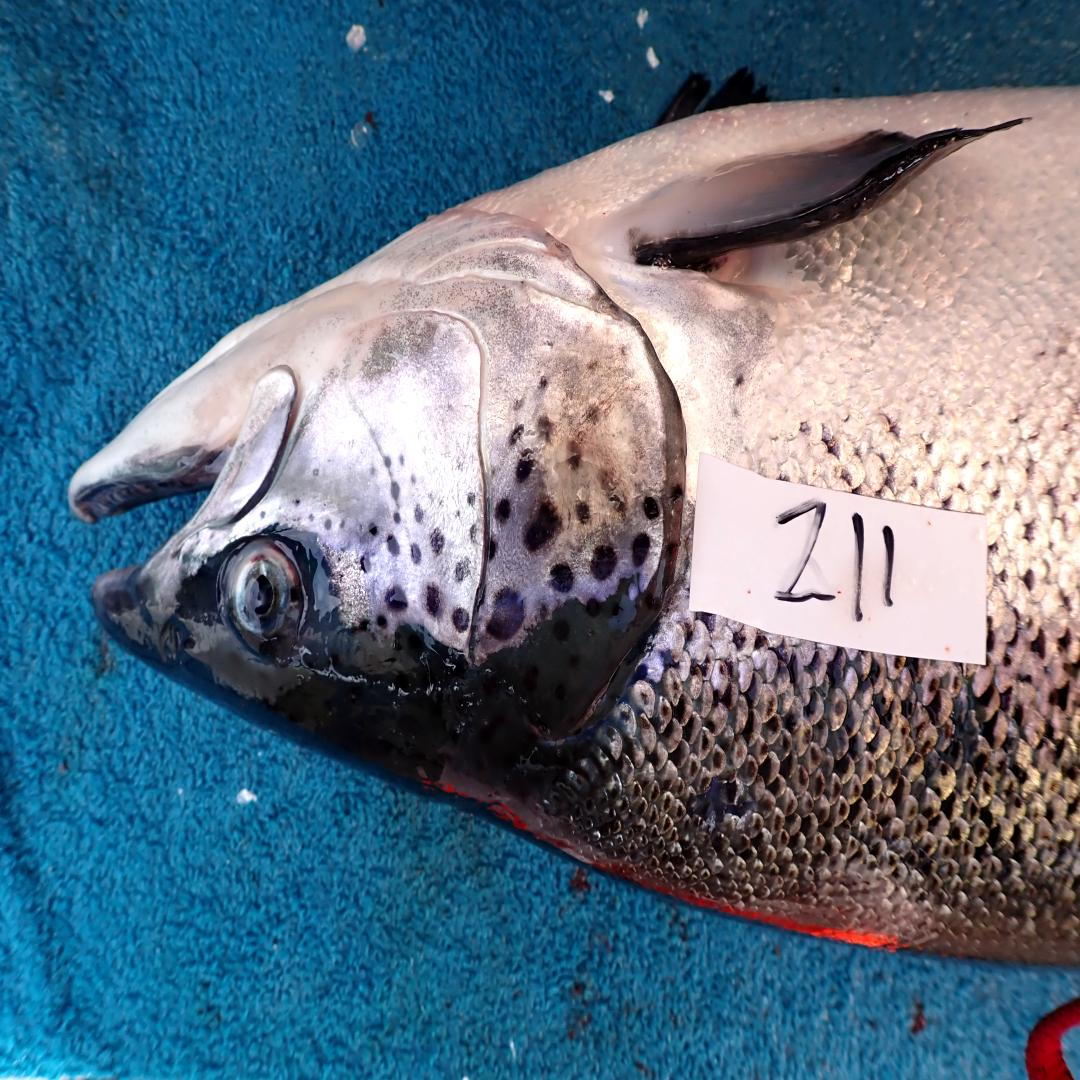roi: (296, 204, 684, 662)
